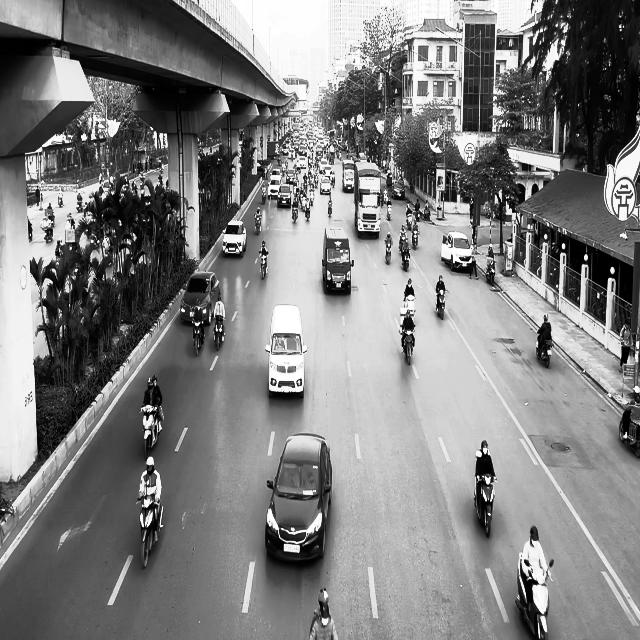bus: (354, 161, 382, 239)
car: (265, 433, 333, 563), (265, 304, 308, 397), (180, 270, 220, 325), (441, 231, 473, 272), (222, 220, 247, 256), (277, 184, 292, 207), (392, 180, 405, 199)
motorbike: (516, 552, 554, 640), (136, 494, 164, 569), (473, 473, 497, 537), (619, 385, 640, 458), (140, 401, 163, 458), (401, 325, 416, 365), (536, 337, 554, 368), (192, 318, 205, 356), (213, 315, 226, 350), (436, 289, 447, 320), (259, 251, 269, 279), (486, 258, 496, 284), (401, 244, 410, 270), (412, 226, 420, 249), (254, 213, 262, 235), (385, 239, 392, 264), (292, 202, 298, 222), (387, 200, 392, 220)
truck: (322, 224, 354, 294)
